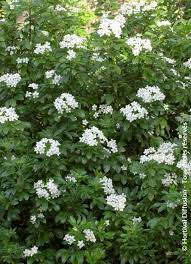flower: (93, 140, 99, 147), (131, 47, 136, 48), (190, 41, 191, 43)
